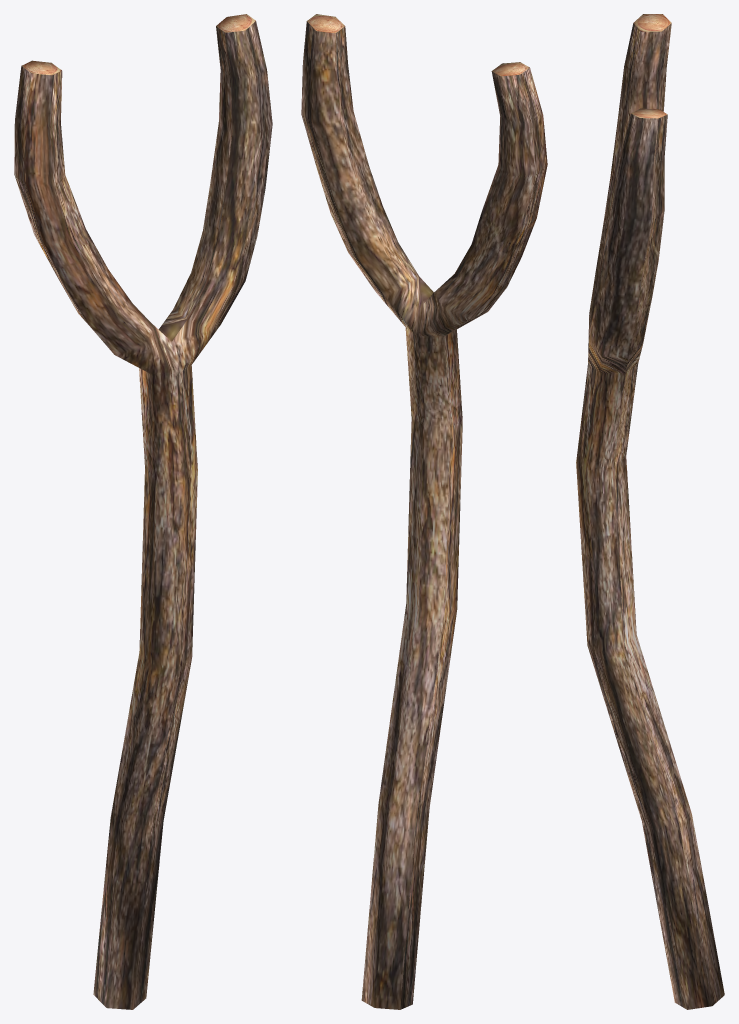
File: Wood_axe.fbx
The picture shows the model from 3 angles, left to right: view 1: azimuth 30°, elevation 25°; view 2: azimuth 150°, elevation 25°; view 3: azimuth 270°, elevation 25°; orthographic projection. The views are drawn at different scales.
Parts seen in each view (by area): view 1: Wood; view 2: Wood; view 3: Wood.
Part boxes in pixels (left/top/right/bottom): Wood: left=14, top=14, right=272, bottom=1009; Wood: left=301, top=14, right=547, bottom=1009; Wood: left=576, top=14, right=724, bottom=1009.
Bounding box in the file's own units: 10.59 × 40.64 × 5.87.
Materials: 1 (1 with a texture image).
